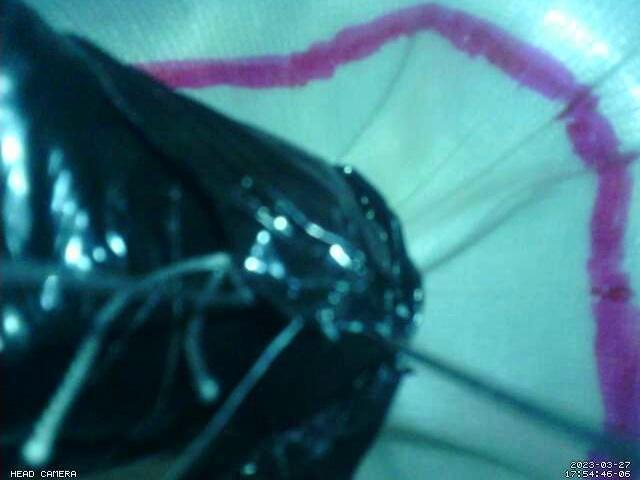red-circle: (135, 2, 639, 480)
